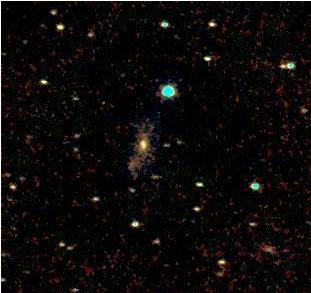star: (87, 88, 117, 118)
